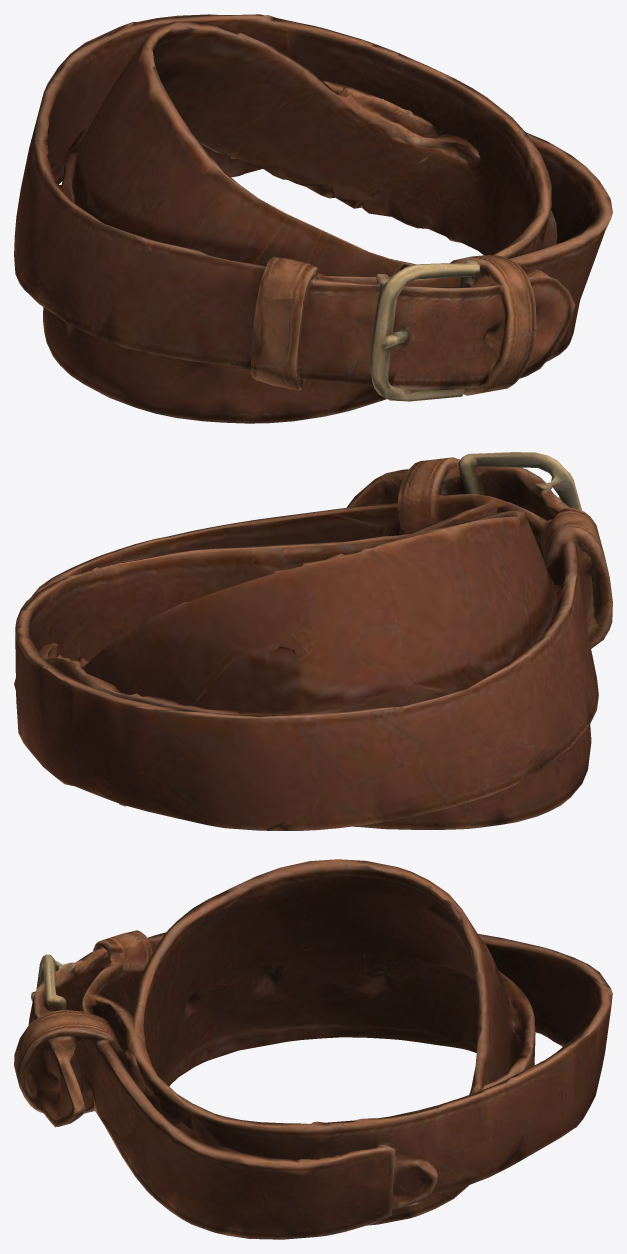
The model's file is belt.glb.
3 renders of one model, top to bottom at view 1: azimuth 30°, elevation 25°; view 2: azimuth 150°, elevation 25°; view 3: azimuth 270°, elevation 25°, orthographic. The views are drawn at different scales.
Parts seen in each view (by area): view 1: Mesh_0; view 2: Mesh_0; view 3: Mesh_0.
Part boxes in pixels (box(x1,y1,x2,y2)): Mesh_0: box(14, 14, 612, 423); Mesh_0: box(14, 452, 612, 830); Mesh_0: box(14, 859, 612, 1239).
Bounding box in the file's own units: 1.57 × 0.8173 × 1.9.
Materials: 1 (1 with a texture image).
